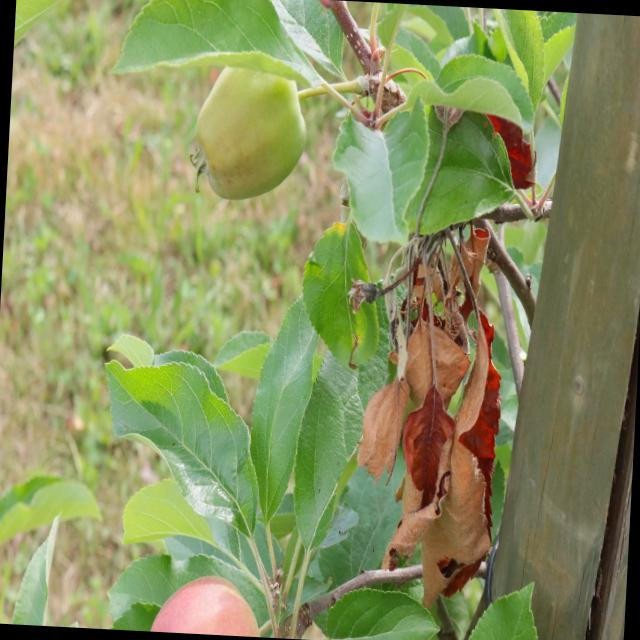-FireBlight-: (348, 227, 512, 598)
